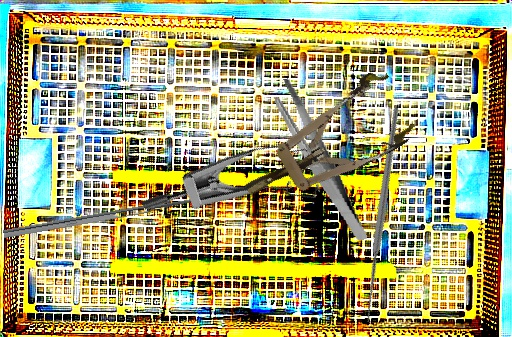Dressing Forceps: (270, 69, 368, 252)
Hook Surgical: (279, 105, 493, 330)
Spatula Surgical: (1, 186, 207, 239)
Speculum: (139, 109, 337, 277), (227, 65, 422, 224)
